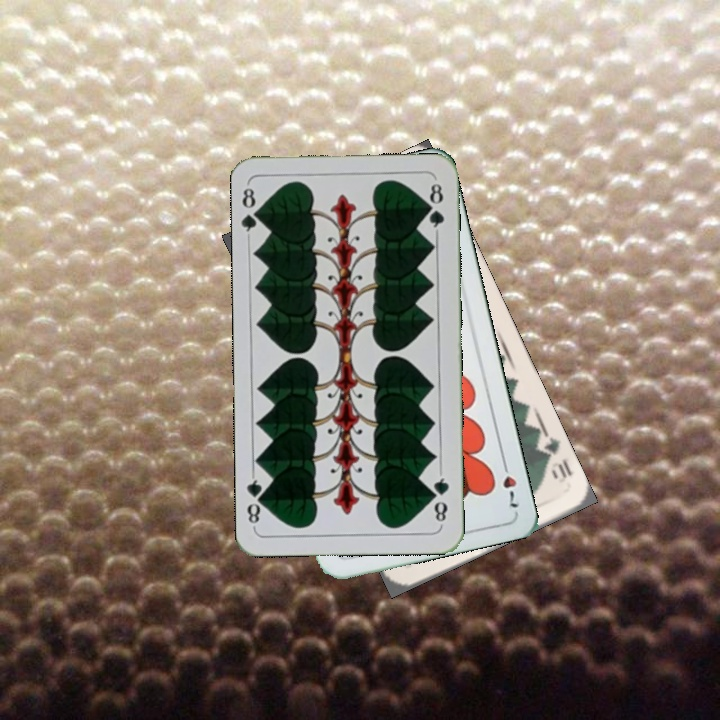G10: (532, 431, 575, 482)
G8: (238, 181, 265, 240), (428, 468, 452, 528)
H7: (498, 454, 521, 511)
